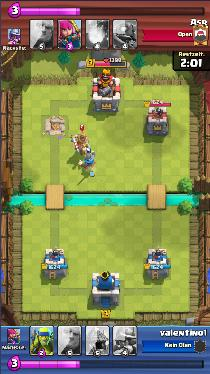ally_knight: (77, 150, 96, 168)
enemy_prince: (70, 132, 89, 153)
